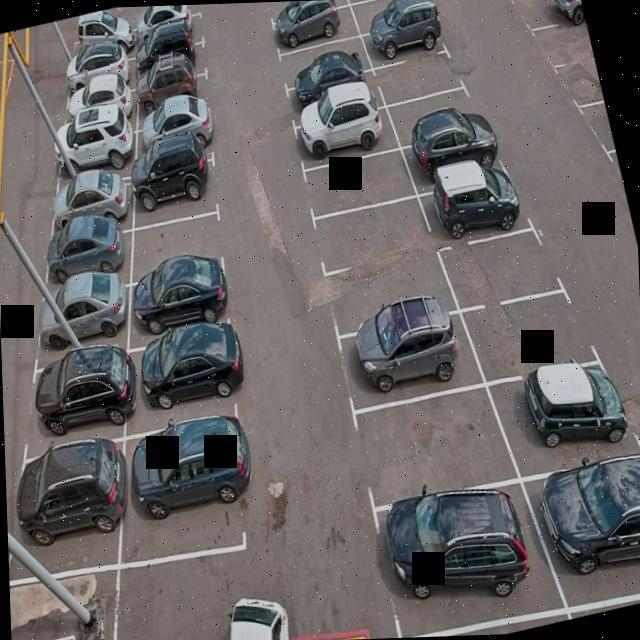space-empty: (357, 379, 516, 506), (309, 184, 441, 284), (463, 283, 588, 385), (321, 246, 456, 329), (439, 222, 560, 313), (295, 137, 417, 216), (374, 46, 471, 109), (394, 86, 480, 146), (276, 35, 373, 85), (350, 0, 437, 36), (553, 57, 605, 115), (533, 19, 594, 68), (577, 99, 616, 158), (265, 0, 354, 22)
space-occupied: (370, 476, 553, 636), (123, 410, 258, 572), (8, 432, 129, 593), (332, 298, 484, 415), (496, 355, 638, 476), (533, 445, 640, 603), (126, 322, 252, 419), (125, 249, 240, 335), (29, 348, 128, 443), (420, 166, 533, 244), (31, 271, 133, 357), (288, 101, 397, 170), (126, 151, 225, 224), (399, 121, 503, 188), (39, 214, 131, 285), (44, 165, 137, 230), (52, 115, 142, 174), (132, 100, 220, 160), (278, 65, 379, 115), (265, 2, 358, 55), (364, 12, 450, 65), (131, 64, 213, 117), (130, 35, 215, 86), (61, 82, 138, 136), (127, 4, 205, 52), (60, 57, 138, 99), (509, 0, 586, 38), (67, 27, 136, 67), (341, 0, 419, 8)
